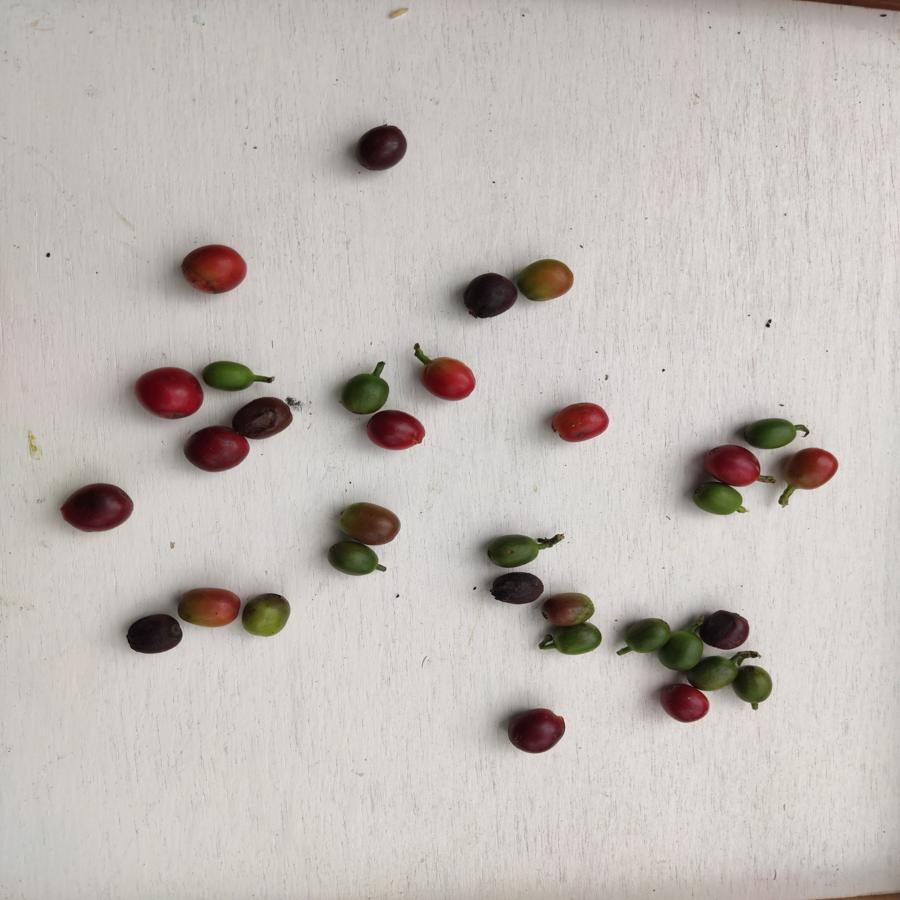Inmaduro: (327, 539, 387, 580), (339, 369, 389, 412), (202, 358, 264, 392), (486, 531, 541, 568), (732, 663, 776, 707), (661, 628, 702, 674), (545, 625, 603, 657), (743, 416, 798, 449), (626, 615, 670, 654), (686, 653, 737, 686), (693, 484, 738, 519)
Maduro: (132, 363, 206, 424), (176, 242, 252, 297), (414, 346, 478, 404), (544, 401, 620, 446), (698, 441, 768, 489), (784, 446, 841, 487)
Pinton: (334, 499, 404, 545), (174, 586, 240, 628), (517, 257, 577, 302), (240, 588, 295, 636), (539, 591, 598, 623)
Sobremaduro: (54, 480, 138, 533), (181, 421, 250, 473), (350, 123, 412, 175), (507, 705, 568, 756), (237, 392, 294, 443), (121, 611, 188, 654), (652, 682, 712, 727), (461, 271, 516, 320), (700, 605, 753, 654), (364, 410, 426, 451), (488, 570, 547, 604)
